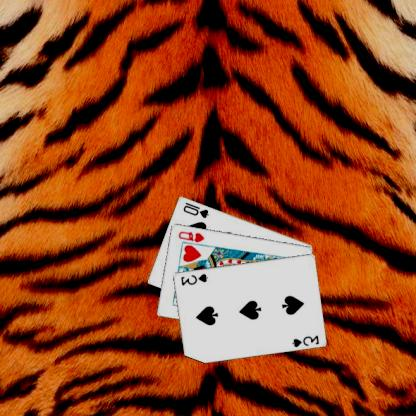10S: (182, 200, 212, 220)
3S: (291, 332, 322, 349), (180, 270, 210, 286)
QH: (177, 228, 207, 244)
